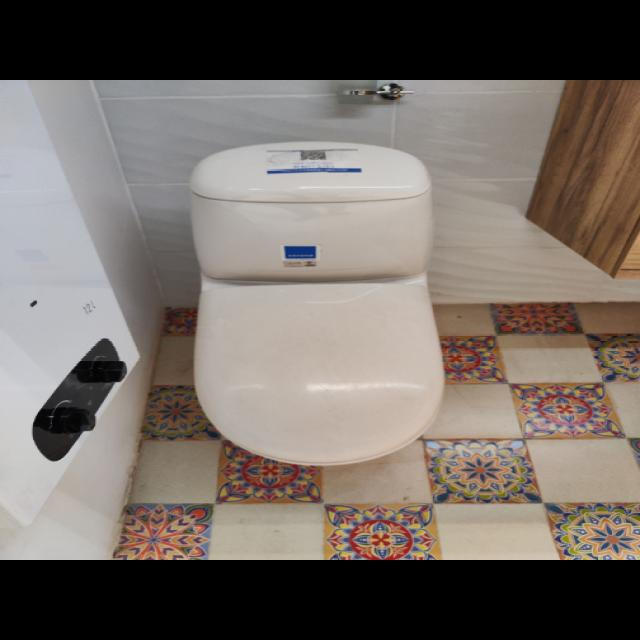toilet: (187, 140, 446, 466)
